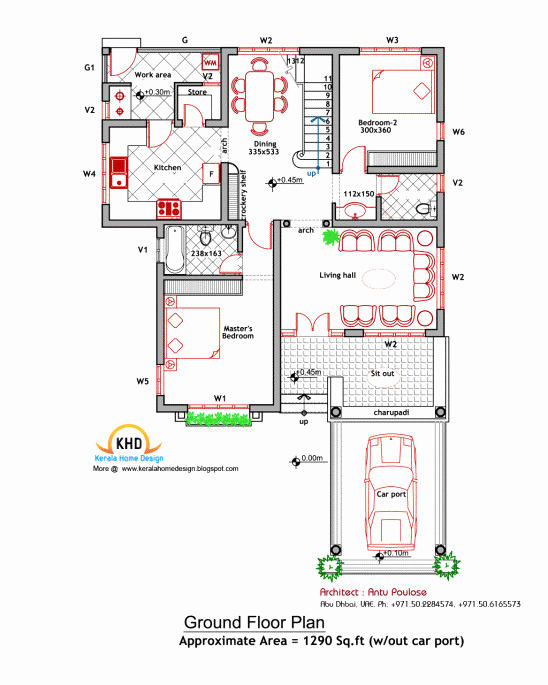door: (293, 308, 332, 332), (107, 56, 137, 78), (144, 126, 174, 148), (340, 144, 368, 166), (179, 98, 209, 118), (245, 230, 271, 251), (215, 254, 239, 275), (381, 173, 401, 196)
room: (267, 217, 445, 338), (153, 273, 282, 416), (331, 42, 446, 175), (99, 119, 229, 228), (99, 45, 231, 131), (154, 221, 246, 278)
